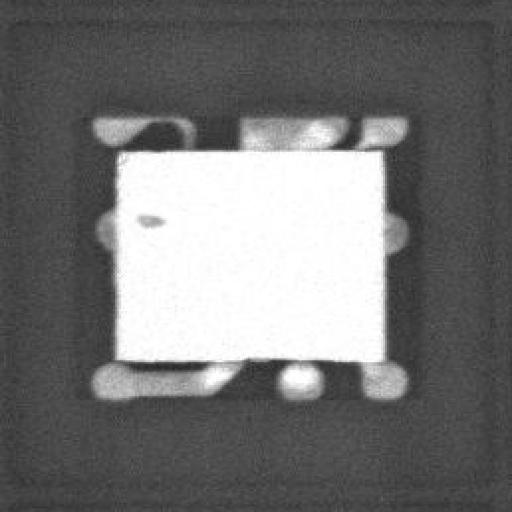DIE_INK: (126, 218, 158, 236)
